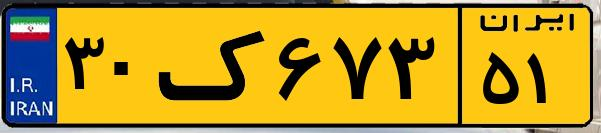0: (110, 28, 158, 98)
1: (525, 38, 570, 115)
3: (385, 28, 445, 110), (57, 26, 110, 100)
5: (475, 38, 525, 113)
6: (270, 28, 330, 110)
7: (330, 28, 385, 110)
ک: (158, 12, 270, 120)
